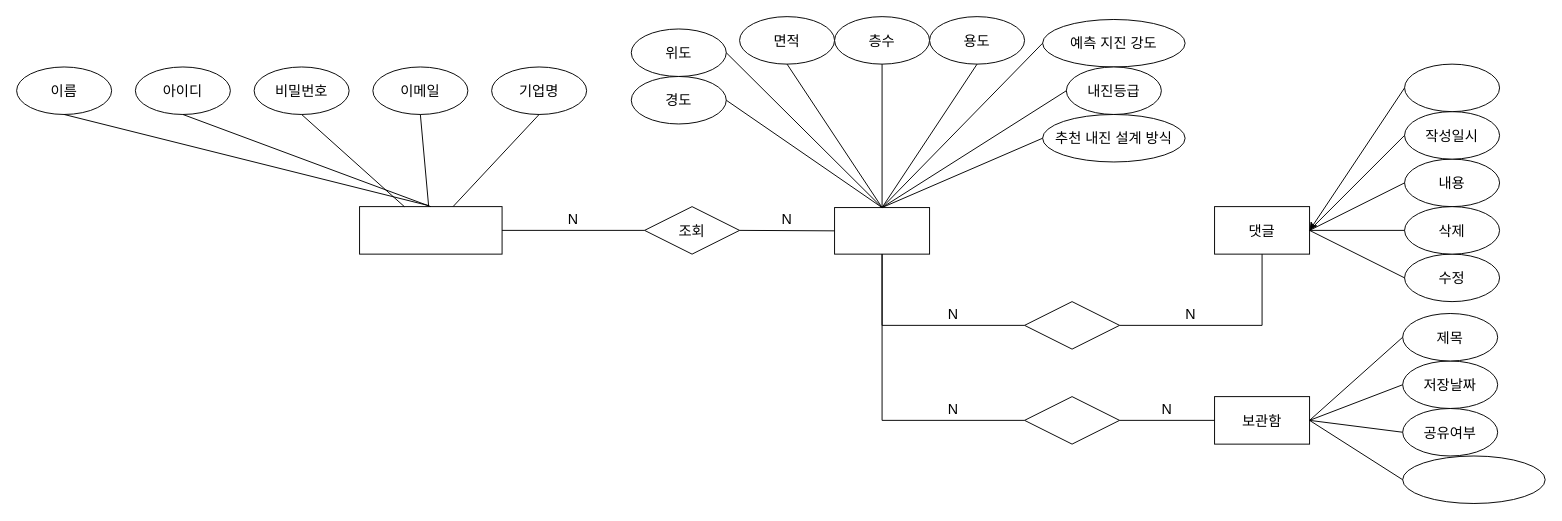
This 1562x521 diagram has some shape labels left out. The shapes that lost their labels are listed below. From the top down, each one's centre as x and y in pixels, then its label:
At point 1452,87: "별점".
At point 430,230: "사용자".
At point 882,230: "건축후보지".
At point 1072,325: "포함".
At point 1072,420: "저장".
At point 1473,479: "과거 검색 내역 조회".
